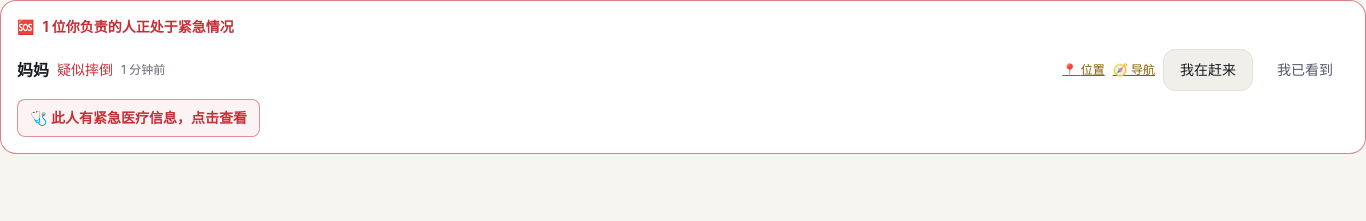
Scenario: ActiveEmergenciesBanner 我负责的人活跃紧急（漏看推送兜底） › 该人有医疗信息(hasMedical) → 显示醒目"点击查看医疗信息"按钮；无则不显示（施救刚需）
Click the button with test id "view-medical-btn": (138, 118) [17, 99, 260, 137]
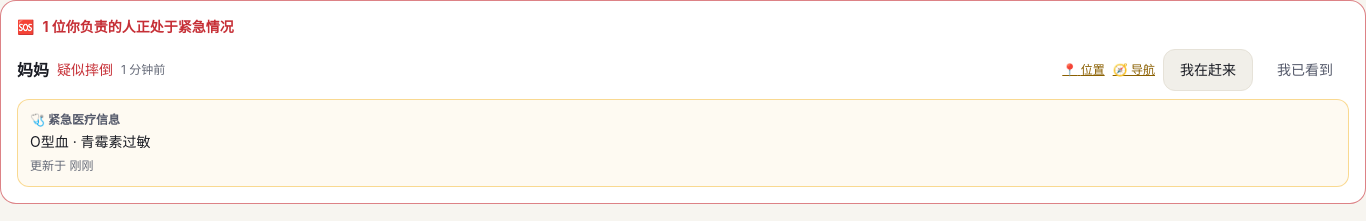
Result: the text "O型血 · 青霉素过敏" is shown at [30, 133, 151, 150]
